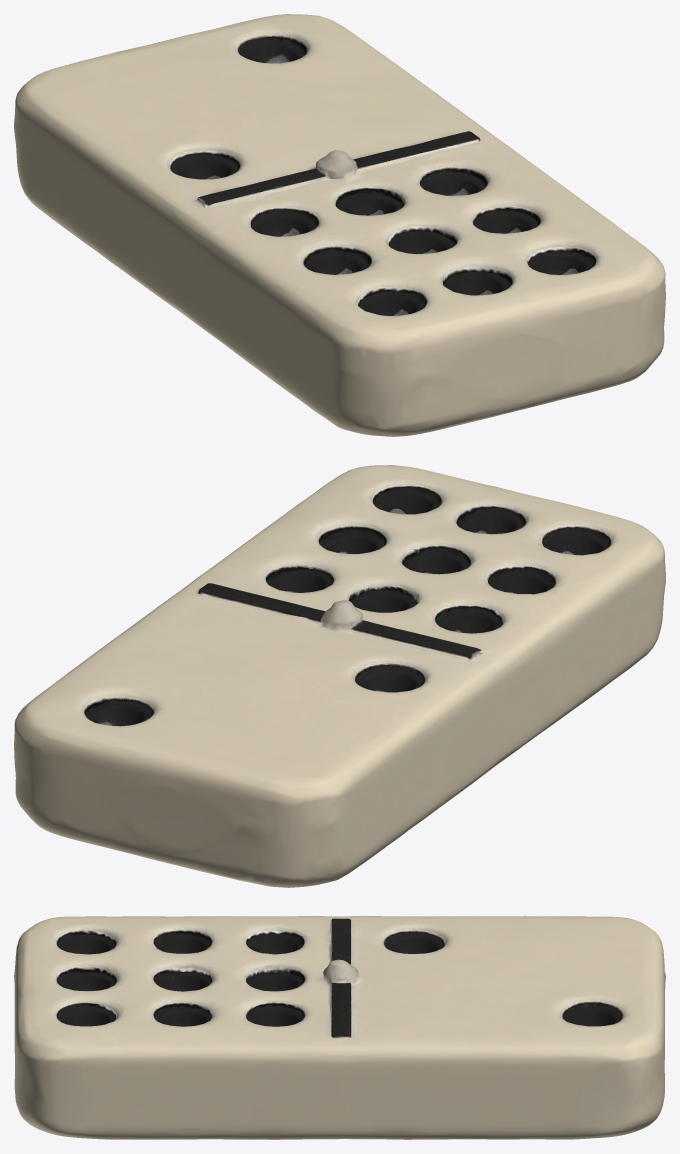
The model's file is 9-2-domino.glb.
3 renders of one model, top to bottom at view 1: azimuth 30°, elevation 25°; view 2: azimuth 150°, elevation 25°; view 3: azimuth 270°, elevation 25°, orthographic. The views are drawn at different scales.
Parts seen in each view (by area): view 1: tripo_node_161efe55-0448-40a7-b1bc-0e43c1cea52d; view 2: tripo_node_161efe55-0448-40a7-b1bc-0e43c1cea52d; view 3: tripo_node_161efe55-0448-40a7-b1bc-0e43c1cea52d.
Boxes of the visible parts, x1,y1,x2,y2 form: tripo_node_161efe55-0448-40a7-b1bc-0e43c1cea52d: (14,14,665,436); tripo_node_161efe55-0448-40a7-b1bc-0e43c1cea52d: (14,465,665,887); tripo_node_161efe55-0448-40a7-b1bc-0e43c1cea52d: (14,916,665,1139).
Size of the model in its own units: 0.4953 by 0.1925 by 0.9832.
1 material, 1 textured.
